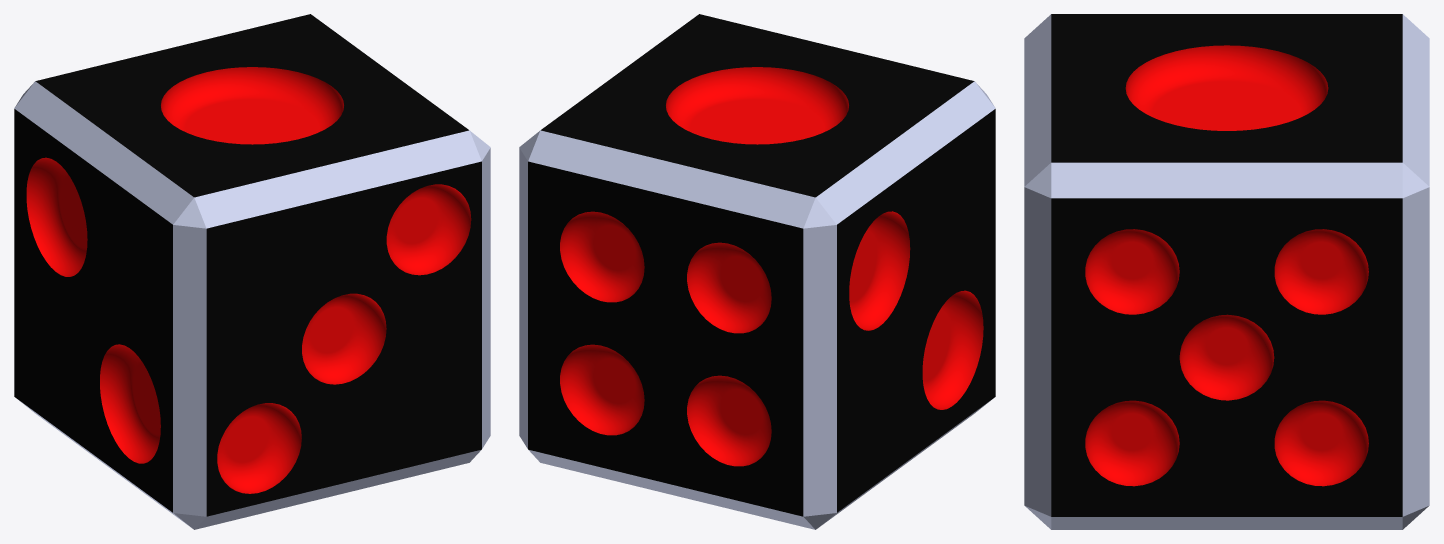
File: sld.glb
3 renders of one model, left to right at view 1: azimuth 30°, elevation 25°; view 2: azimuth 150°, elevation 25°; view 3: azimuth 270°, elevation 25°, orthographic. The views are drawn at different scales.
Visible parts, largest first — view 1: ソリッドワークス; view 2: ソリッドワークス; view 3: ソリッドワークス.
Boxes of the visible parts, <box> form: ソリッドワークス: <box>14,14,490,529</box>; ソリッドワークス: <box>519,14,995,529</box>; ソリッドワークス: <box>1024,14,1429,529</box>.
Bounding box in the file's own units: 0.03 × 0.03 × 0.03.
